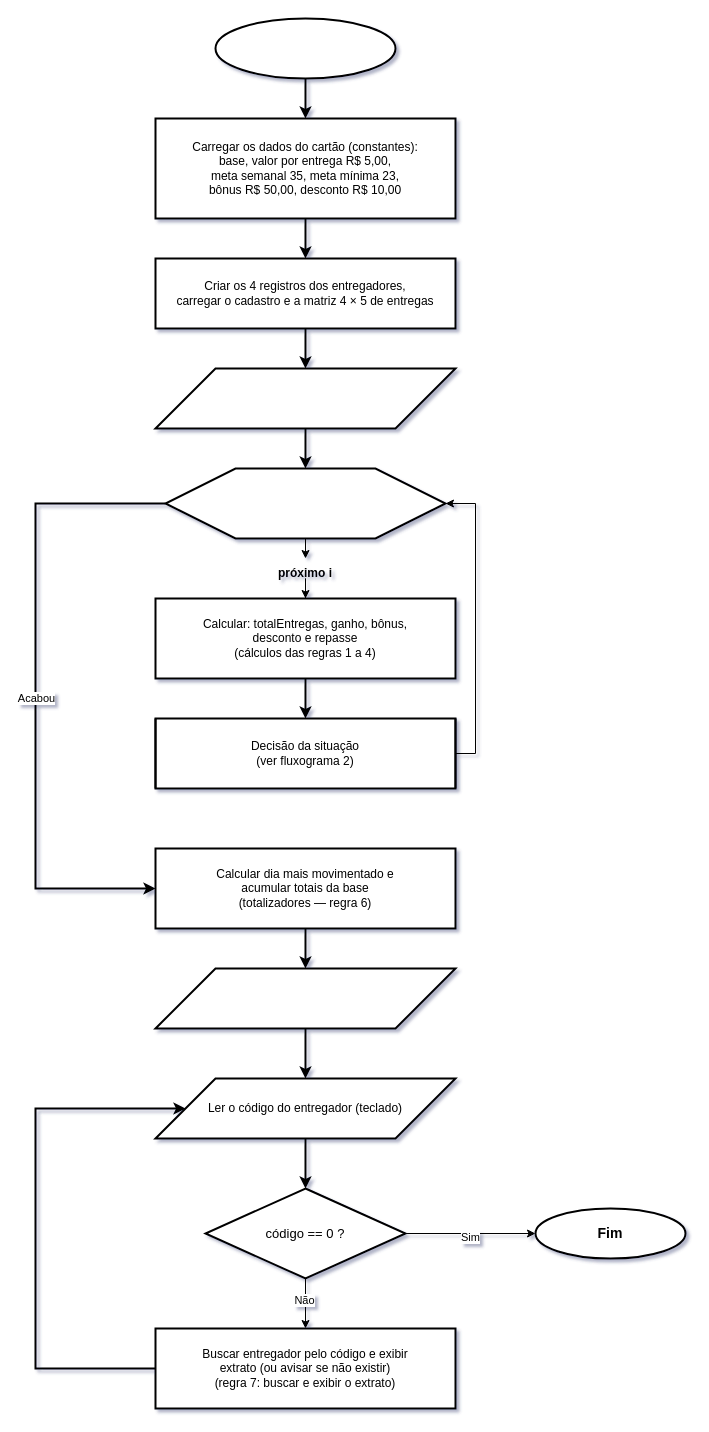
Some shapes in this 709 by 1432 pixel diagram are drawn without their labels. Here are the shapes that lost their labels. From the top down, the centre of each, then its label:
At point 305,48: "Início".
At point 305,398: "Exibir o código de autenticidade SA03S-G01-3045".
At point 305,503: "PARA cada entregador (i = 0 até 4)".
At point 305,998: "Exibir o relatório da base".
